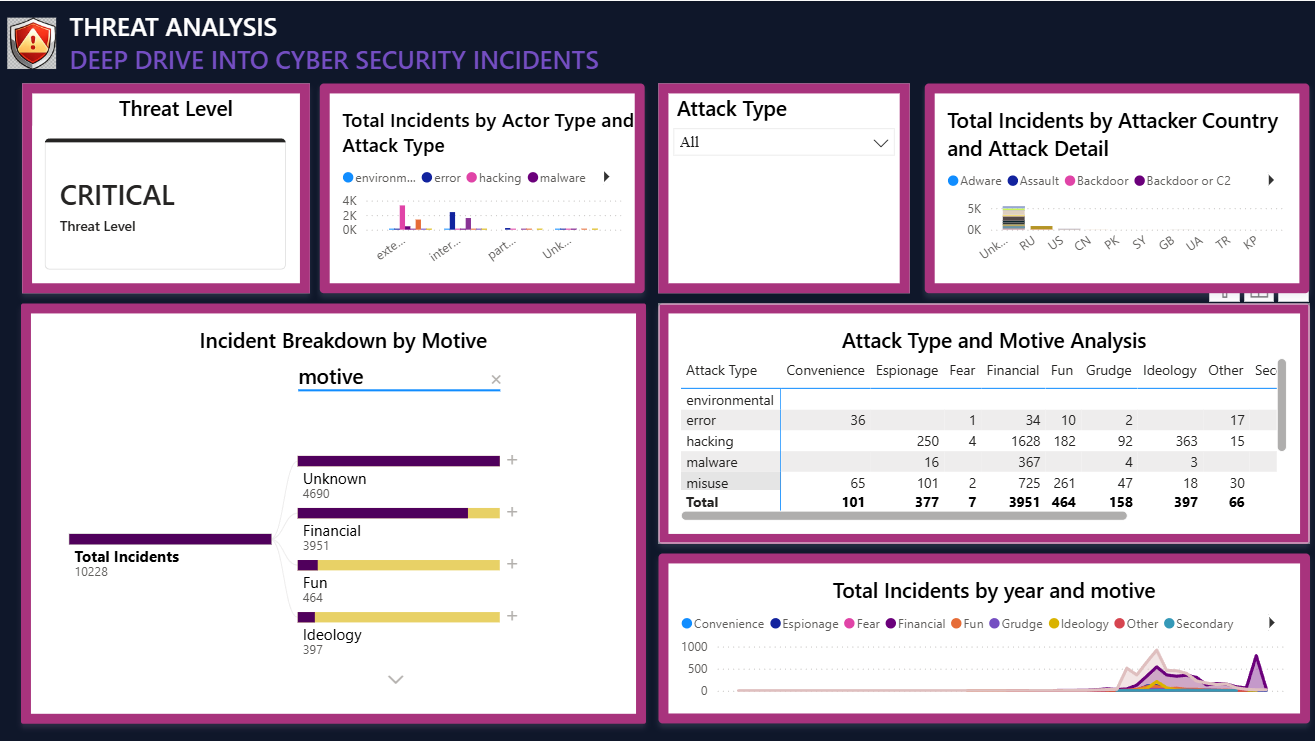

The dashboard page shown, as its layout file describes it:
{"tool":"powerbi","page":{"name":"Threat analysis","canvas":[1280,720],"ordinal":1},"visuals":[{"type":"textbox","box":[0,0,1280,79.6],"z":0},{"type":"clusteredColumnChart","fields":{"Y":["result.Total Incidents"],"Category":["result.Actor Type"],"Series":["result.Attack Type"]},"box":[312.5,79.6,313.7,202.7],"z":1000},{"type":"decompositionTreeVisual","title":"Incident Breakdown by Motive","fields":{"Analyze":["result.Total Incidents"],"ExplainBy":["result.motive","result.Country","result.Actor Type","result.Attack Type"]},"box":[24.3,291.4,602.9,405.7],"z":2000},{"type":"pivotTable","title":"Attack Type and Motive Analysis","fields":{"Rows":["result.Attack Type"],"Columns":["result.motive"],"Values":["result.Total Incidents"]},"box":[639.4,292,628.6,231.6],"z":3000},{"type":"areaChart","fields":{"Category":["result.year"],"Y":["result.Total Incidents"],"Series":["result.motive"]},"box":[639.4,533.2,628.6,164.1],"z":4000},{"type":"lineStackedColumnComboChart","fields":{"Category":["result.Attacker Country"],"Y":["result.Total Incidents"],"Series":["result.Attack Detail"]},"box":[896.4,79.6,371.6,202.7],"z":5000},{"type":"slicer","fields":{"Values":["result.Attack Type"]},"box":[639.4,79.6,242.5,202.7],"z":6000},{"type":"cardVisual","title":"Threat Level","fields":{"Data":["result.Threat Level"]},"box":[25.3,79.6,277.5,202.7],"z":7000},{"type":"image","box":[10.9,12.1,47.1,57.9],"z":8000}]}

Visuals, with their boxes in screenshot pixels (x1, y1, x2, y2), scaled from the page's 1280x720 canvas onto the 1315x741 screenshot:
textbox: [0,0,1314,82]
clusteredColumnChart - result.Total Incidents x result.Actor Type: [321,82,643,291]
"Incident Breakdown by Motive" decompositionTreeVisual: [25,300,644,717]
"Attack Type and Motive Analysis" pivotTable: [657,301,1303,539]
areaChart - result.year x result.Total Incidents: [657,549,1303,718]
lineStackedColumnComboChart - result.Attacker Country x result.Total Incidents: [921,82,1303,291]
slicer - result.Attack Type: [657,82,906,291]
"Threat Level" cardVisual: [26,82,311,291]
image: [11,12,60,72]
